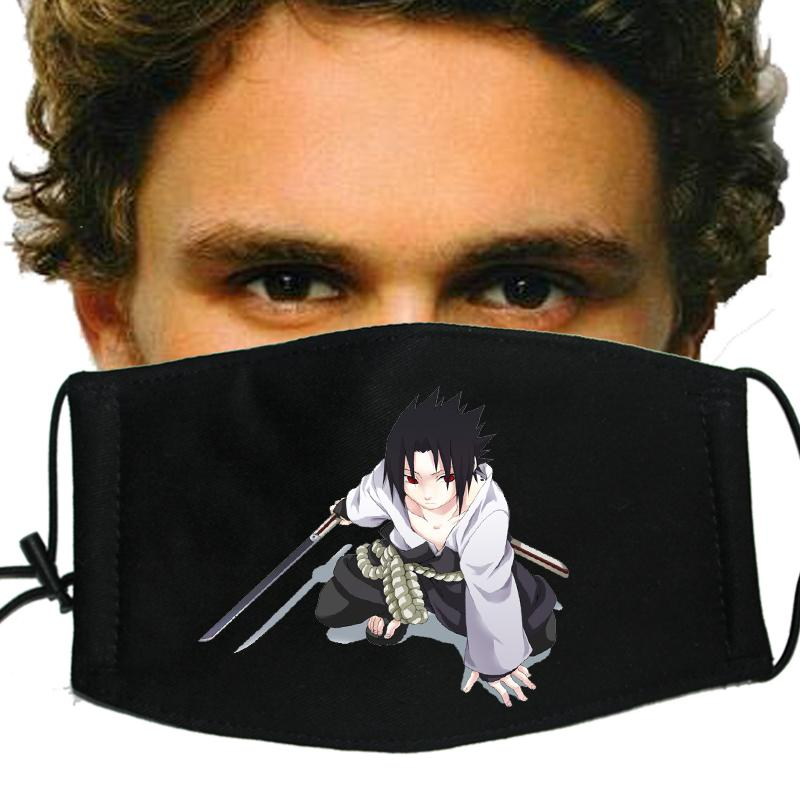face_mask: (167, 71, 652, 643)
